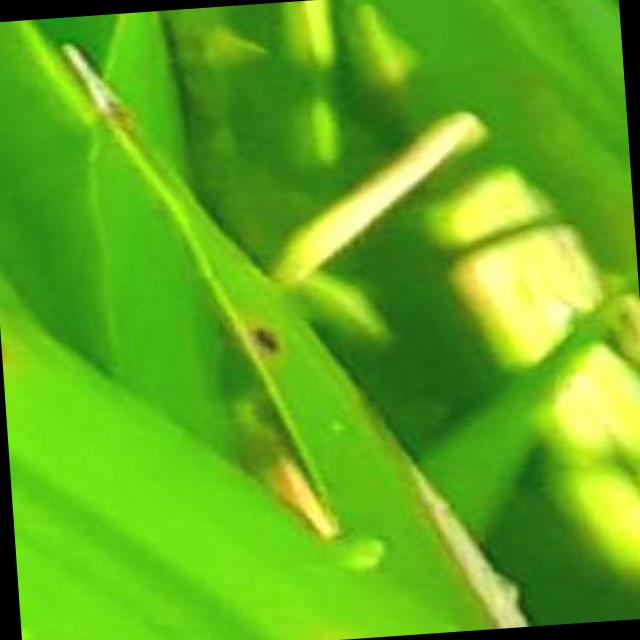Rice_Brownspot: (236, 310, 295, 364)
